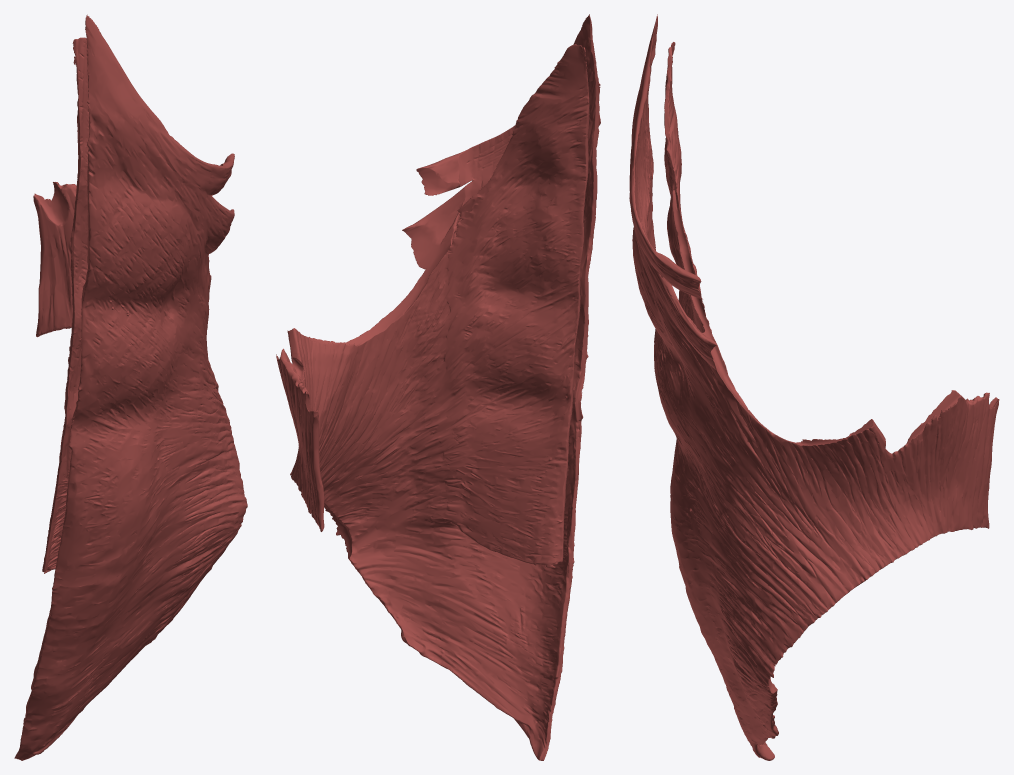
File: FMA13893.glb
3 renders of one model, left to right at view 1: azimuth 30°, elevation 25°; view 2: azimuth 150°, elevation 25°; view 3: azimuth 270°, elevation 25°, orthographic. The views are drawn at different scales.
Visible parts, largest first — view 1: FMA13893; view 2: FMA13893; view 3: FMA13893.
Part boxes in pixels (x1=…): FMA13893: x1=14, y1=14, x2=247, y2=760; FMA13893: x1=276, y1=14, x2=600, y2=760; FMA13893: x1=629, y1=14, x2=999, y2=760.
Bounding box in the file's own units: 0.1205 × 0.3792 × 0.1699.
